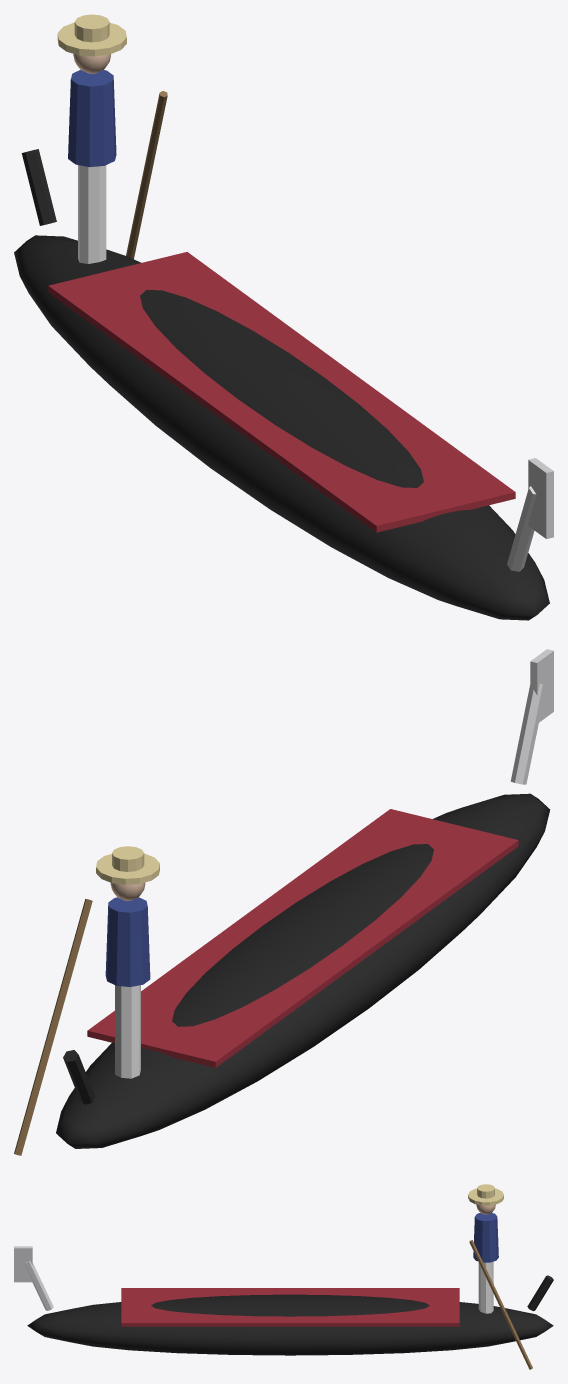
File: Gondola.glb
3 renders of one model, top to bottom at view 1: azimuth 30°, elevation 25°; view 2: azimuth 150°, elevation 25°; view 3: azimuth 270°, elevation 25°, orthographic. The views are drawn at different scales.
Parts seen in each view (by area): view 1: Gondola; view 2: Gondola; view 3: Gondola.
Boxes of the visible parts, x1,y1,x2,y2 form: Gondola: (14,14,553,620); Gondola: (14,649,553,1155); Gondola: (14,1184,553,1369).
Bounding box in the file's own units: 1.3 × 2.38 × 7.18.
